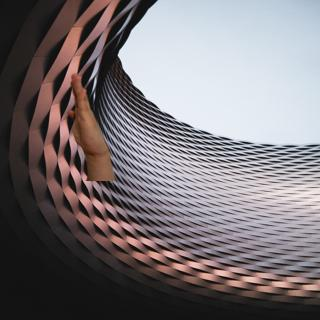RIGHT: (64, 71, 108, 157)
